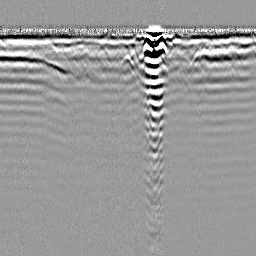cavity: (119, 52, 134, 70)
